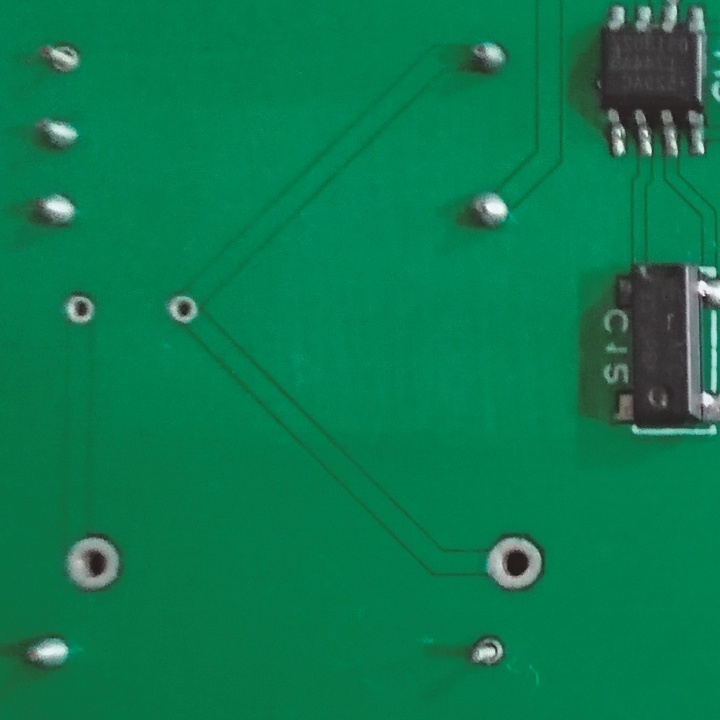F: (482, 531, 549, 596), (61, 532, 123, 594), (41, 38, 83, 79), (62, 290, 99, 329), (164, 291, 199, 329), (467, 635, 507, 668)
